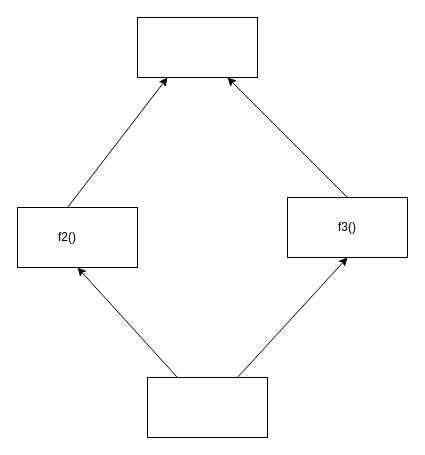
The diagram is 425 pixels wide and 455 high, and some of its shapes have lost their labels. The shapes that lost their labels are listed below. From the top down, each one's centre as x and y in pixels, then its label:
At point (197, 47): "f4()".
At point (207, 407): "f1()".
